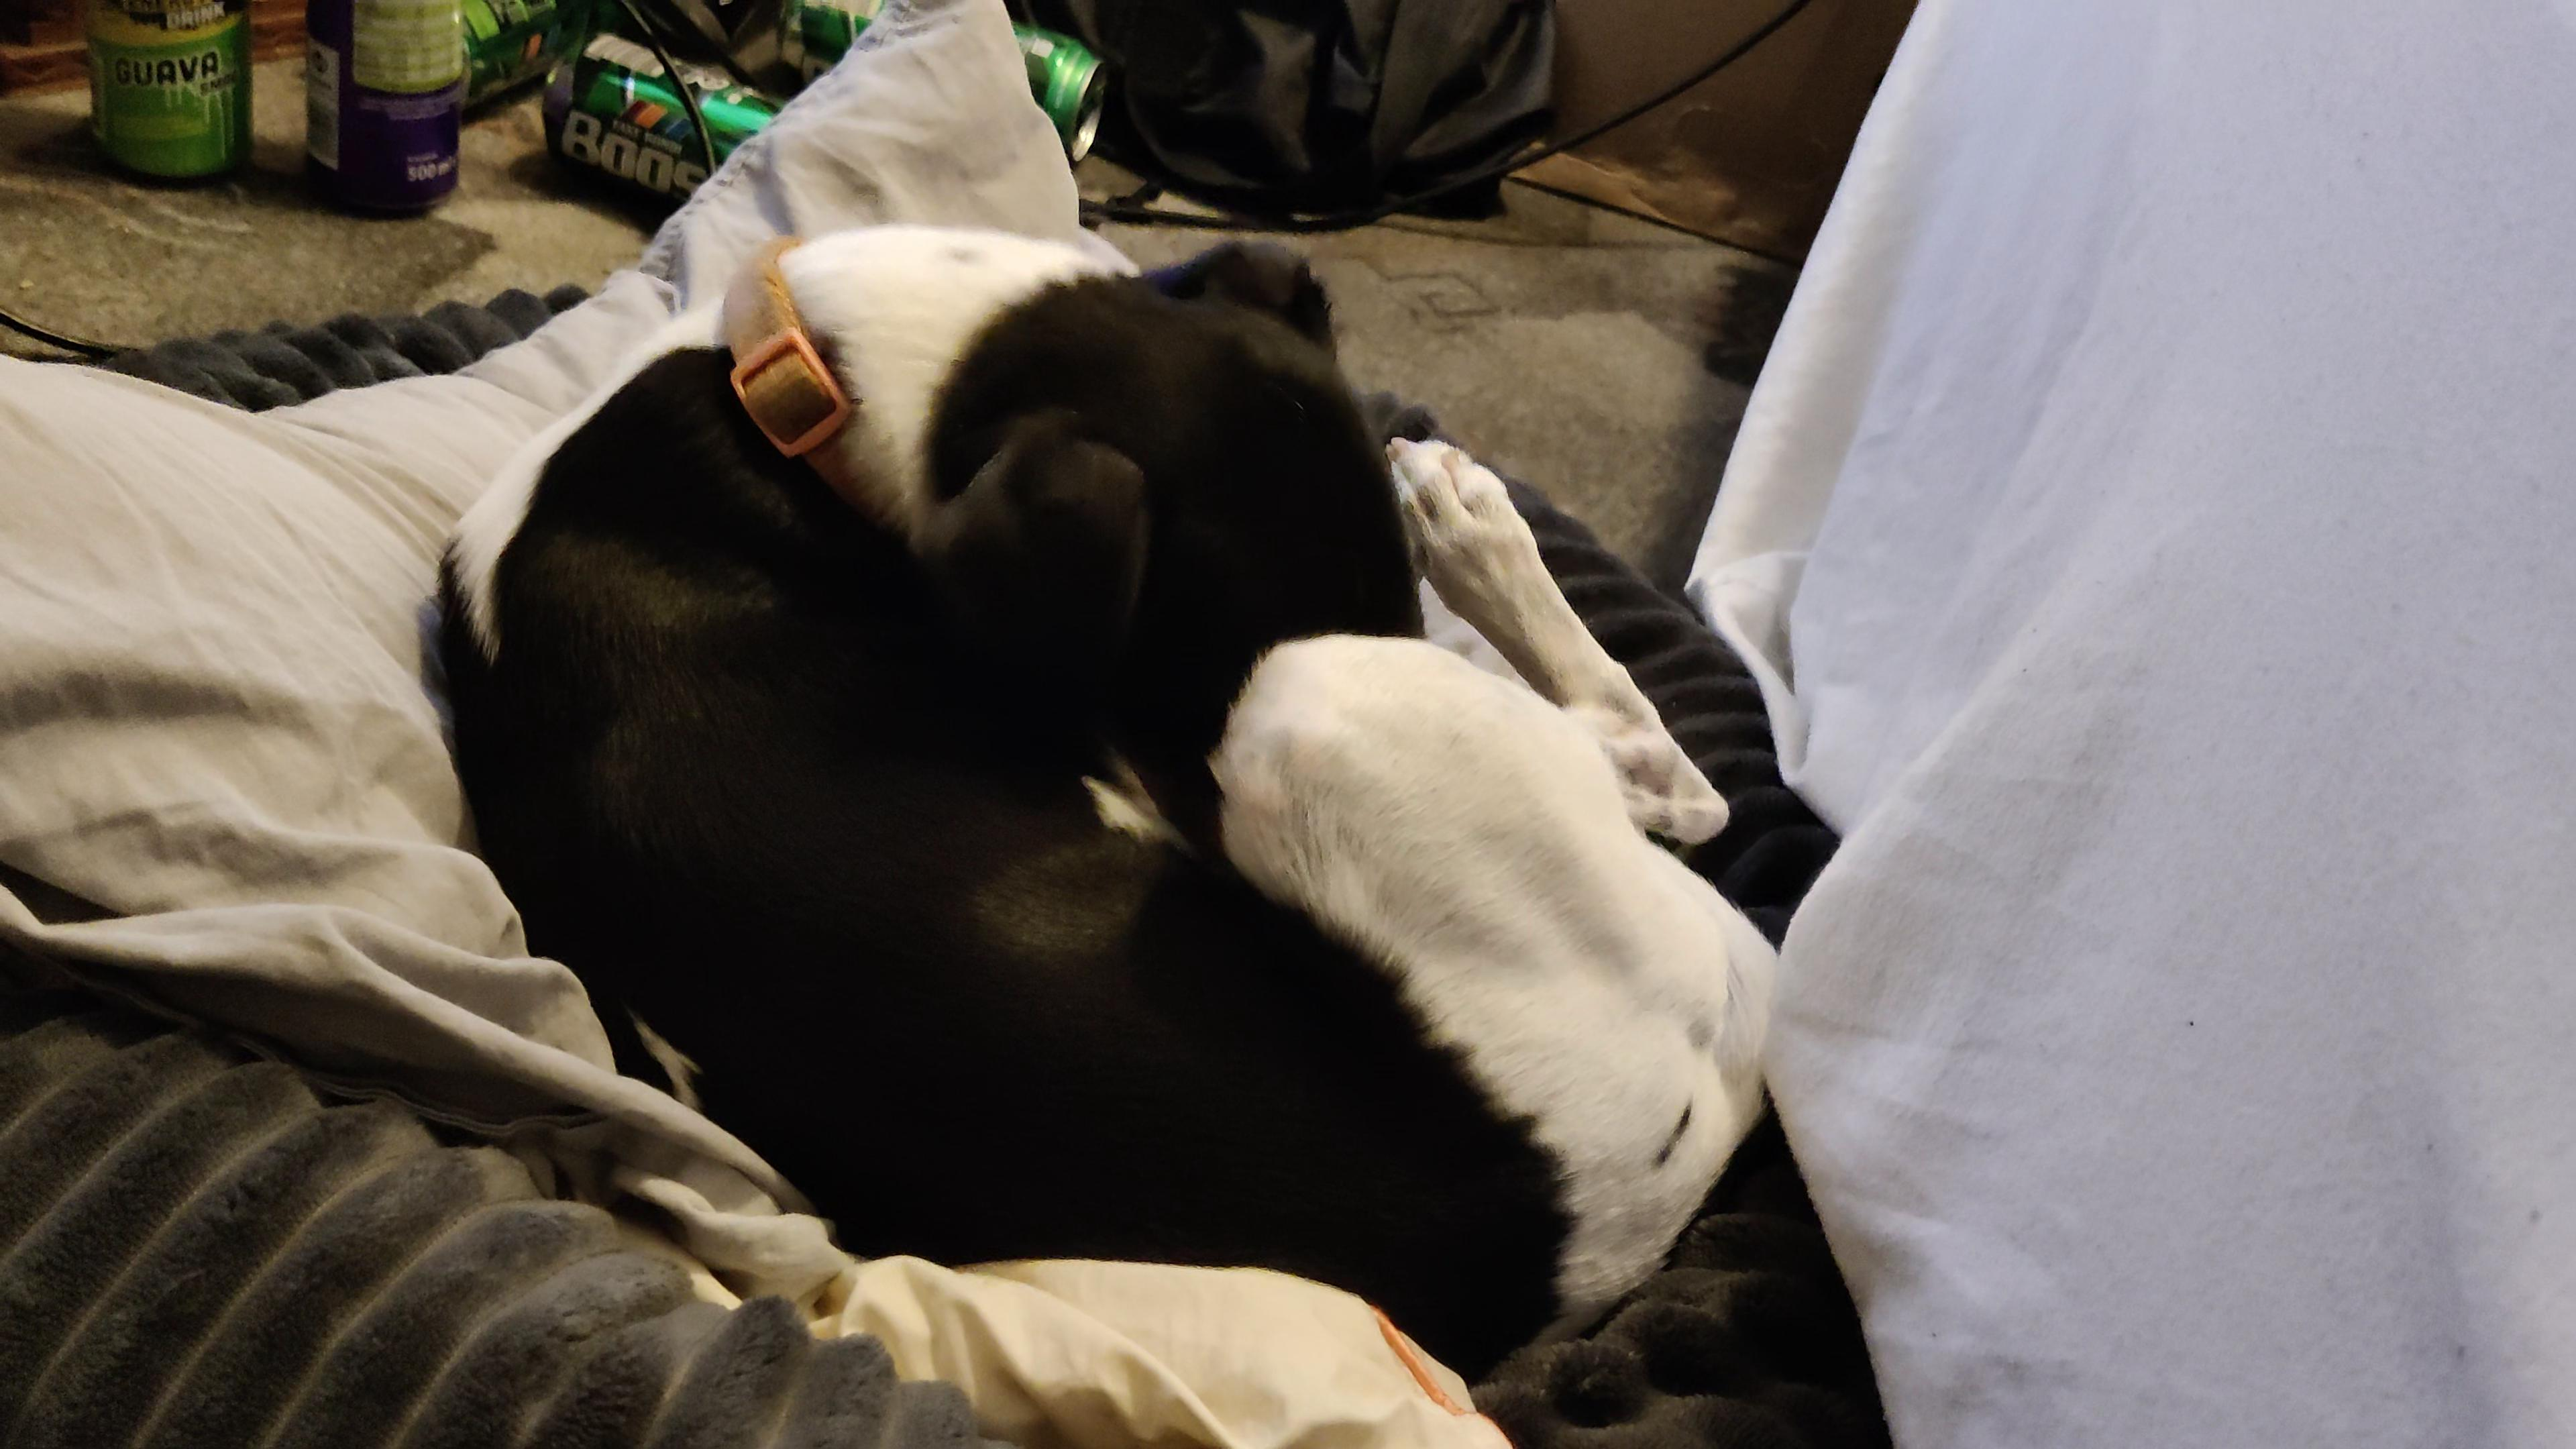Dog: (410, 221, 1826, 1366)
